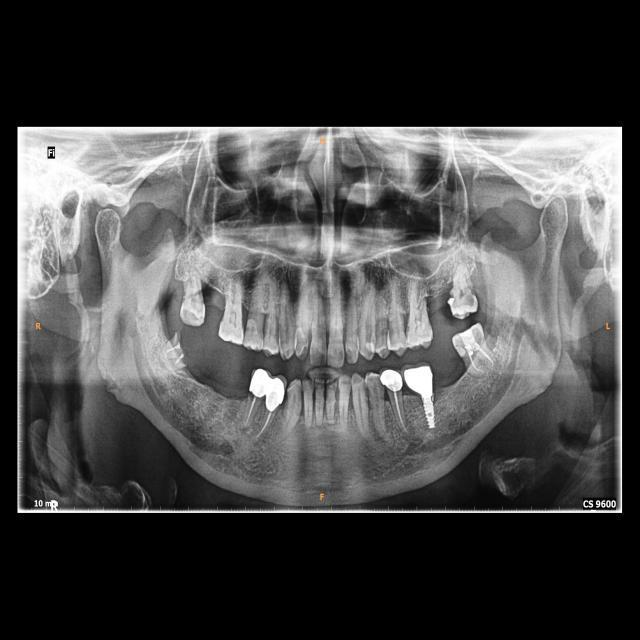dentin-curugu: (464, 294, 476, 308)
dolgu: (454, 327, 482, 352)
implant: (403, 366, 443, 430)
kanal-tedavisi: (390, 393, 410, 430), (465, 353, 497, 373), (245, 396, 259, 428), (165, 341, 180, 355), (172, 353, 185, 366)
kaplama: (265, 376, 284, 408), (249, 369, 269, 396), (381, 370, 404, 393), (259, 409, 274, 436)
kirik: (172, 329, 193, 365)
